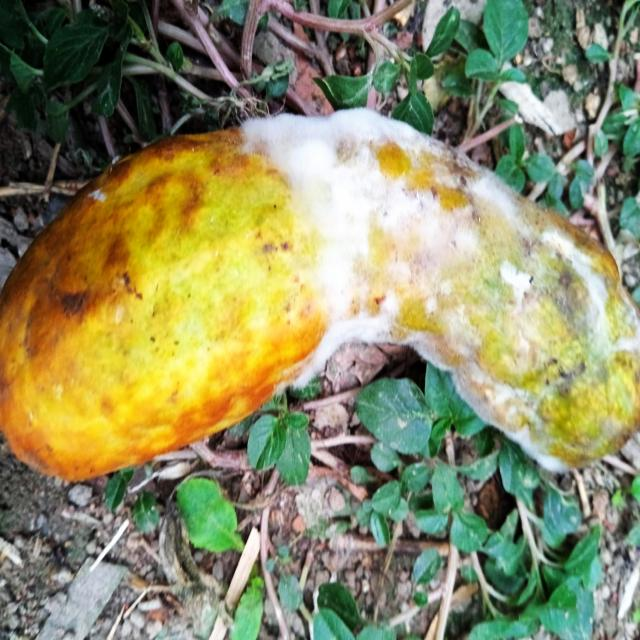Pythium-Fruit-Rot: (235, 105, 640, 474)
